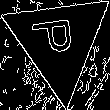P_E: (33, 20, 85, 63)
